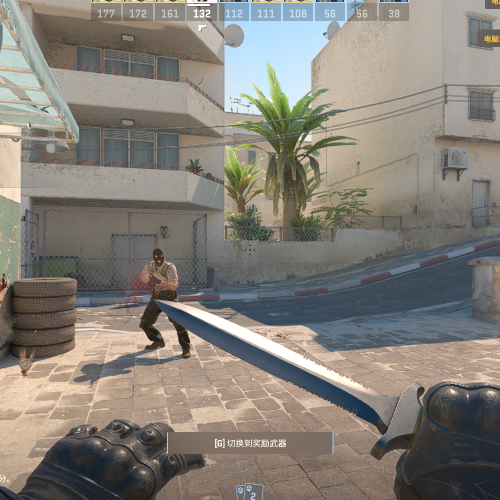t_body: (138, 248, 190, 360)
t_head: (152, 249, 165, 266)
